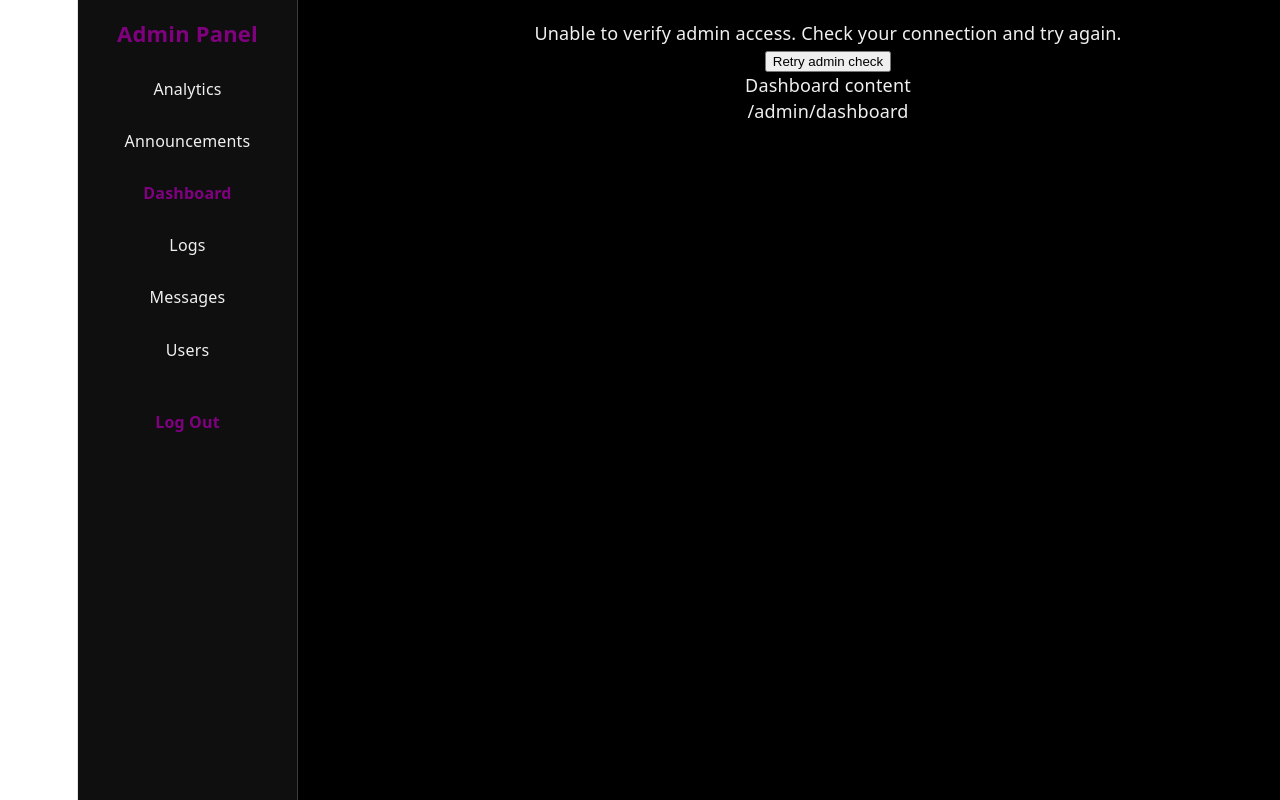
it: Admin pages › keeps the admin page and session when session verification has a network failure
Check: the message shows "Unable to verify admin access", box [534,21,1122,45]
Check: the text "Dashboard content" is shown, box [745,73,911,97]
Click the button "Retry admin check" at (828, 62), box [765,51,891,72]
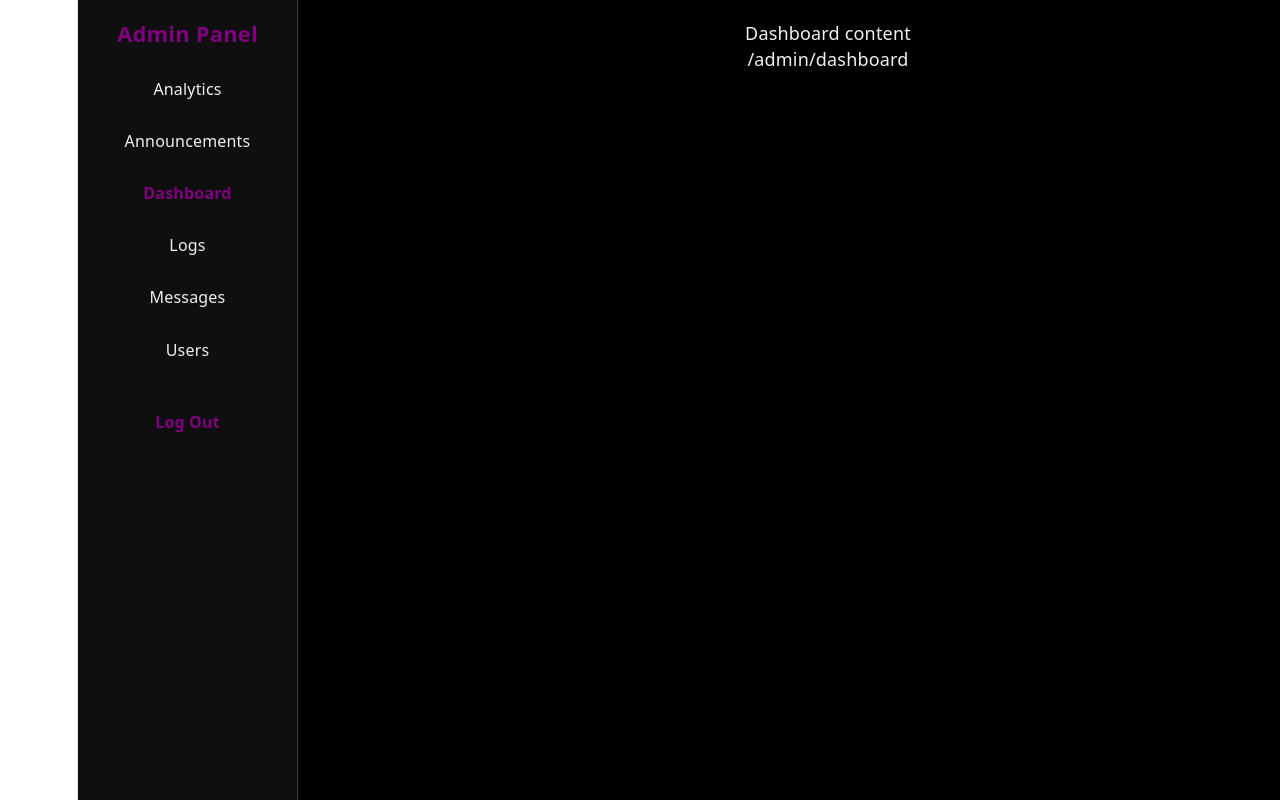
Check: the text with test id "current-path" reads "/admin/dashboard", box [747,47,909,71]
Check: the message "Unable to verify admin access. Check your connection and try again. Retry admin" is gone
